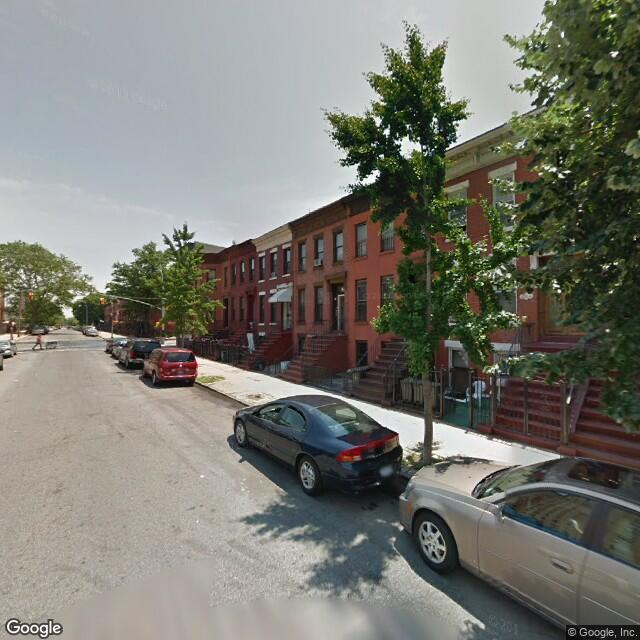litter: (197, 472, 207, 479)
